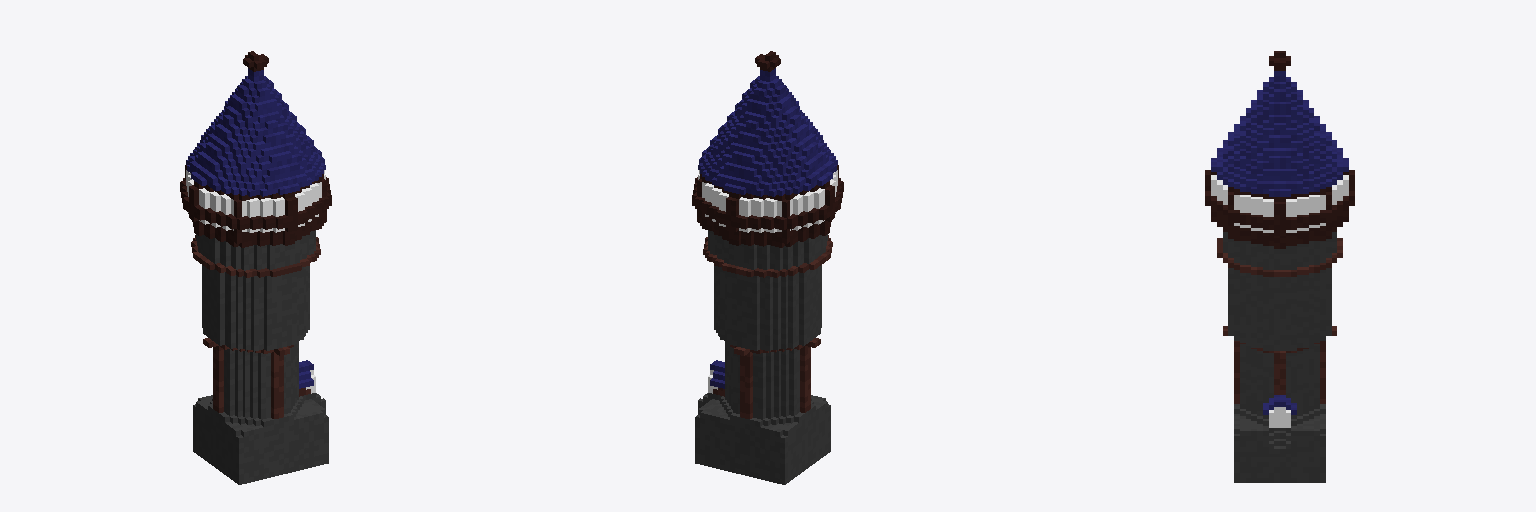
The picture shows the model from 3 angles: view 1: azimuth 30°, elevation 25°; view 2: azimuth 150°, elevation 25°; view 3: azimuth 270°, elevation 25°; orthographic projection.
Visible parts, largest first — view 1: object 1; view 2: object 1; view 3: object 1.
Part boxes in pixels (bbox=[...]): object 1: bbox=[180, 51, 331, 484]; object 1: bbox=[692, 51, 843, 484]; object 1: bbox=[1205, 51, 1354, 482].
Size of the model in its own units: 2.6 by 7.8 by 2.6.
Materials: 1 (1 with a texture image).